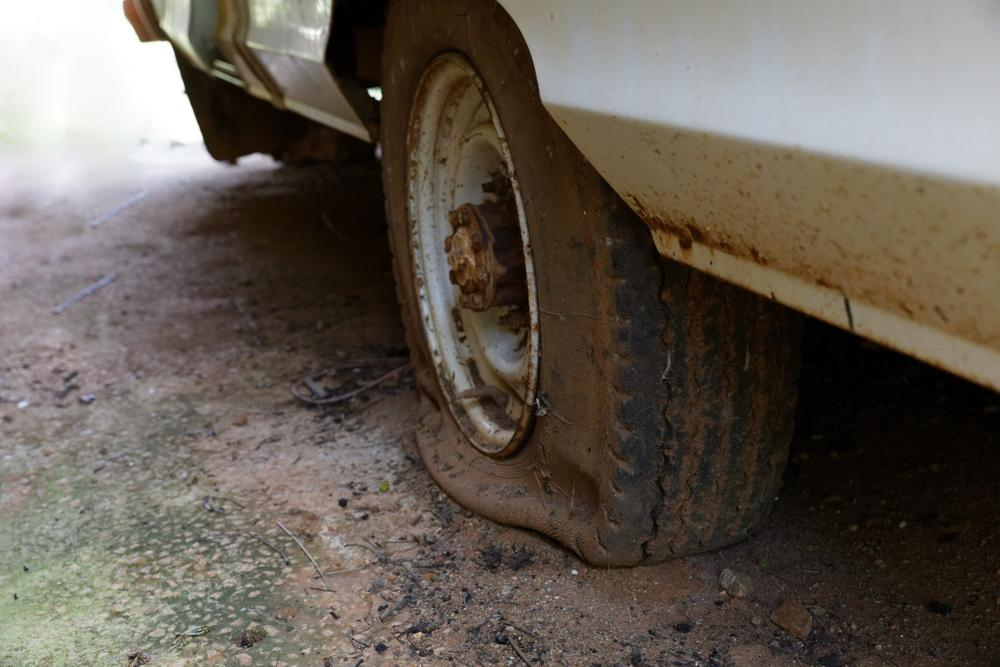tire flat: (380, 0, 796, 564)
